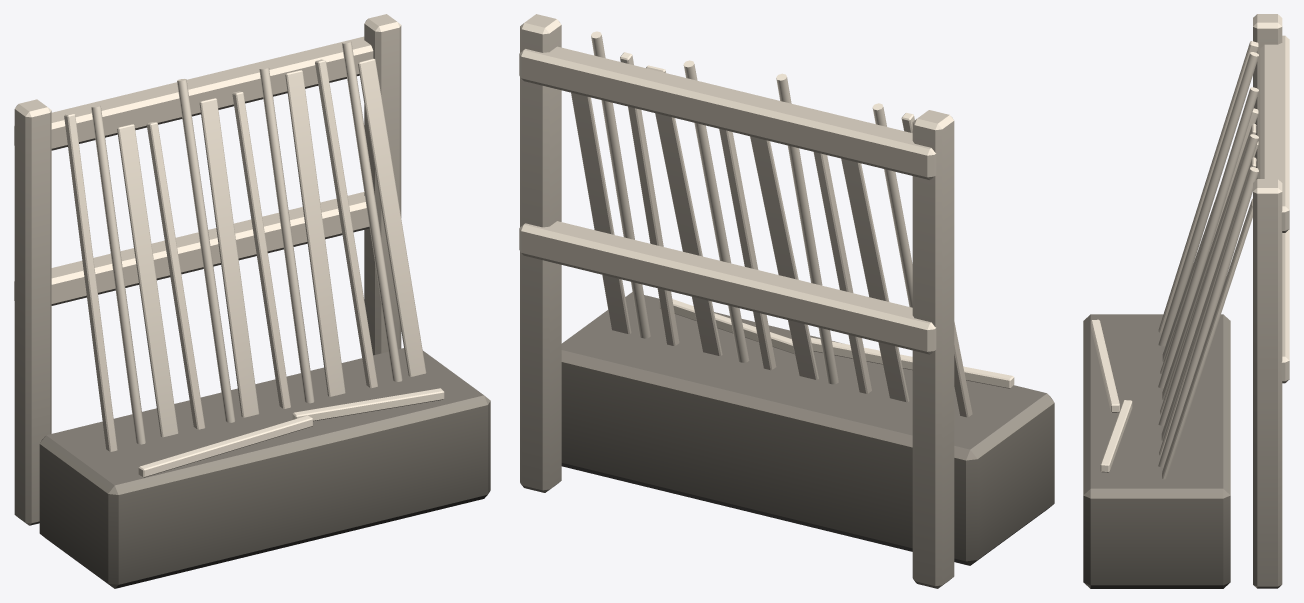
File: SM_VKI_Prop_IronStock_150.fbx
3 views of the same model, side by side, from view 1: azimuth 30°, elevation 25°; view 2: azimuth 150°, elevation 25°; view 3: azimuth 270°, elevation 25° (orthographic). The views are drawn at different scales.
Parts seen in each view (by area): view 1: SM_VKI_Prop_IronStock_150.001; view 2: SM_VKI_Prop_IronStock_150.001; view 3: SM_VKI_Prop_IronStock_150.001.
Part boxes in pixels (<box>): SM_VKI_Prop_IronStock_150.001: <box>14,14,490,588</box>; SM_VKI_Prop_IronStock_150.001: <box>519,14,1054,588</box>; SM_VKI_Prop_IronStock_150.001: <box>1083,14,1289,588</box>.
Size of the model in its own units: 1.16 by 1.2 by 0.56.
